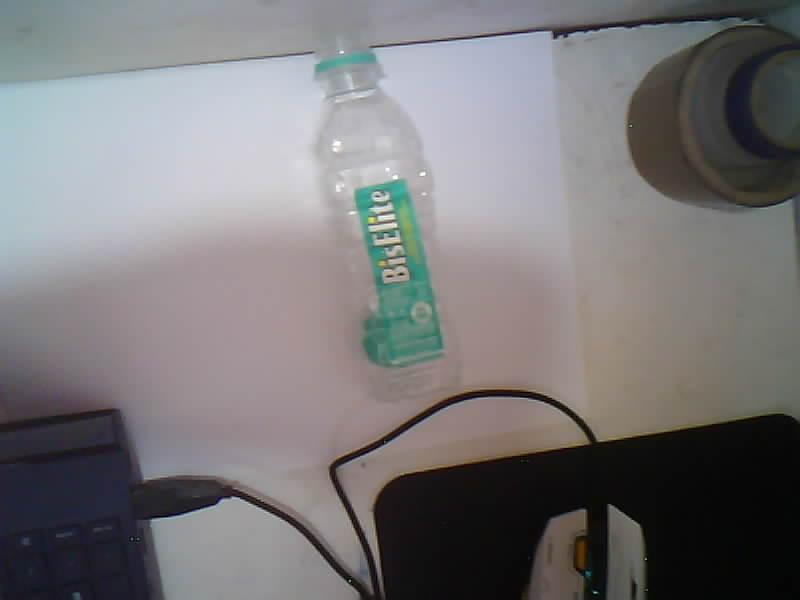non-biodegradable: (314, 33, 456, 398)
